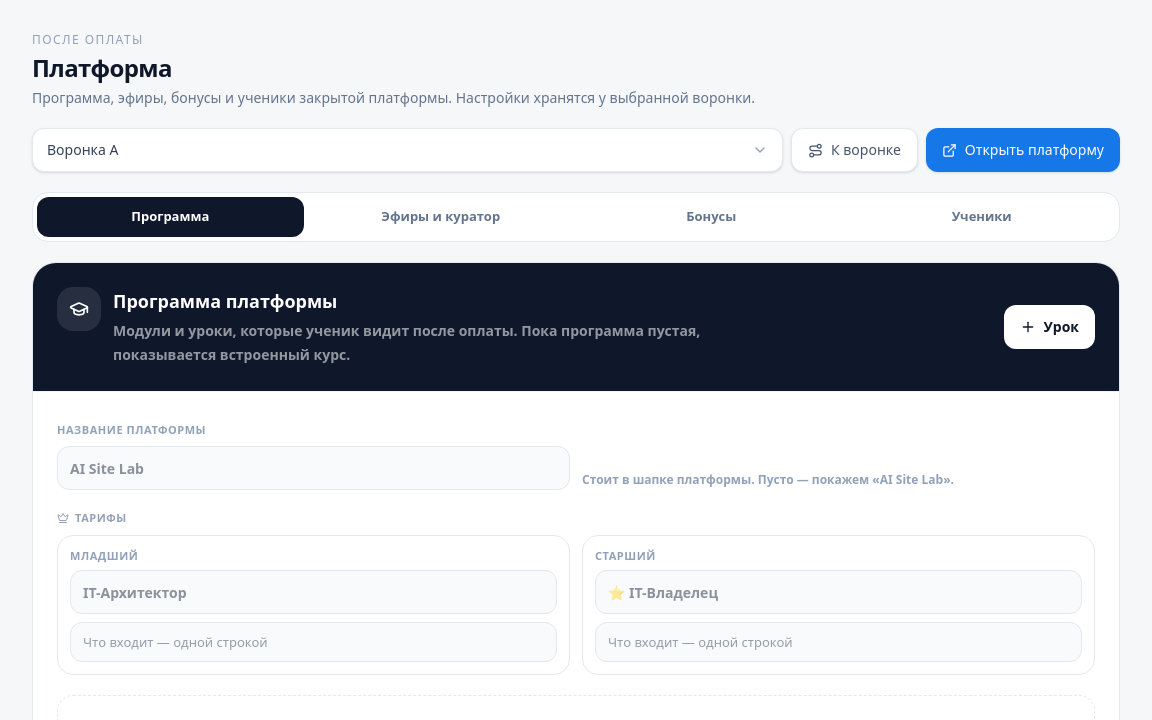
Test: PlatformSettingsPage › показывает эфиры и чат куратора выбранной воронки
Click the button "Эфиры и куратор" at (441, 217), box [308, 197, 574, 237]
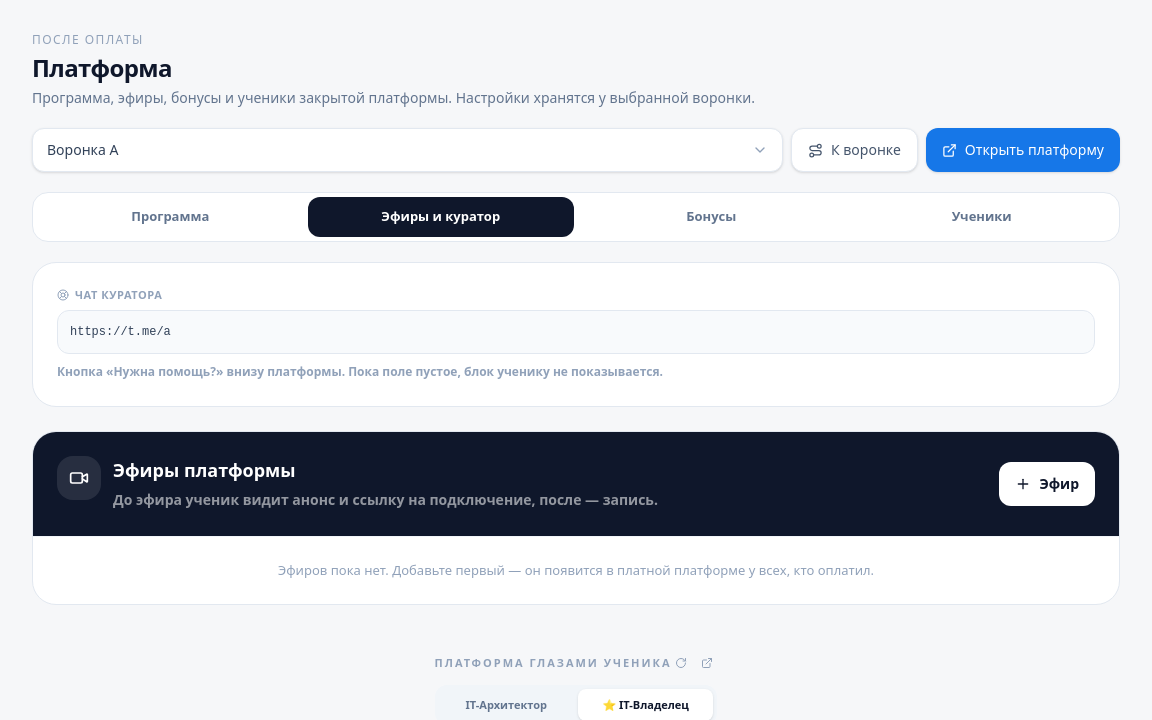
Expected: the field with placeholder "https://t.me/ваш_чат" holds "https://t.me/a", [57, 310, 1095, 354]
Expected: the heading "Эфиры платформы" is shown, [113, 458, 296, 482]
